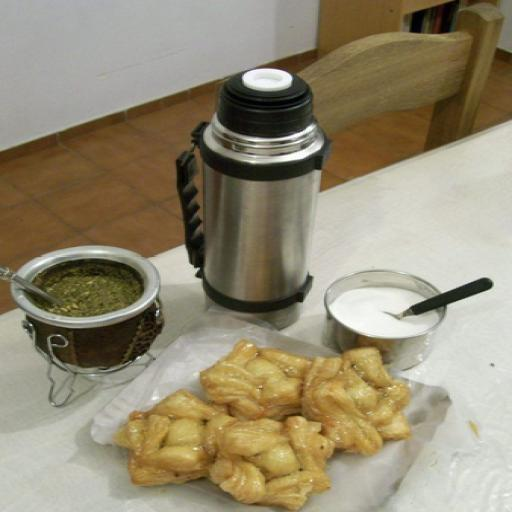bolleria: (113, 340, 410, 510)
mate: (13, 246, 163, 389)
termo: (176, 69, 330, 327)
